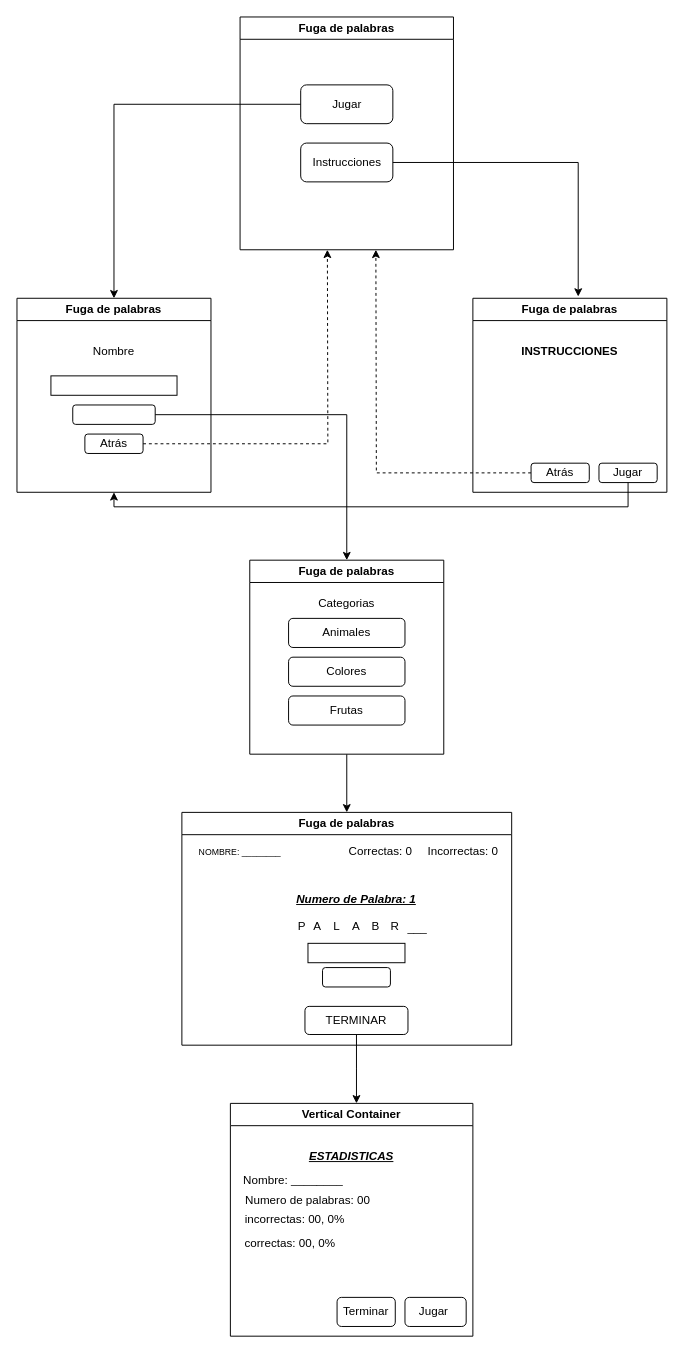
Image size: 684x1353. Some labels were removed from this diagram. The shapes that lost their labels are listed below. From the top down, each one's centre as x and y in pixels, then its label:
the point at 113,414: Siguiente
the point at 356,977: Verificar
